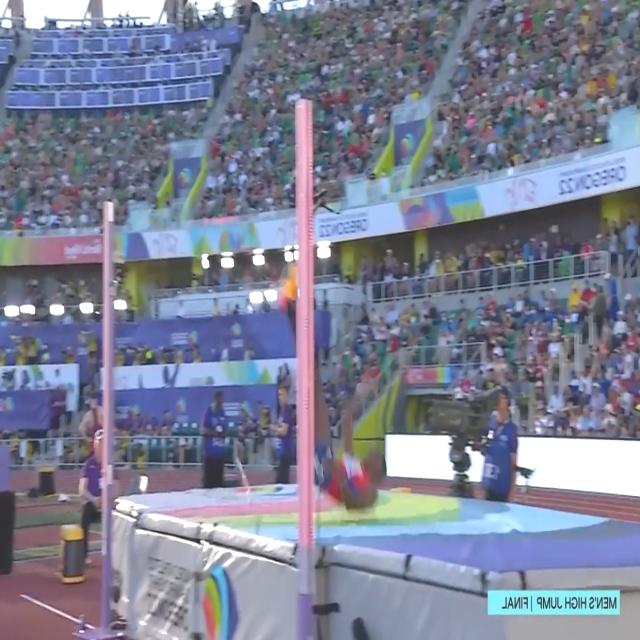land: (280, 264, 387, 508)
